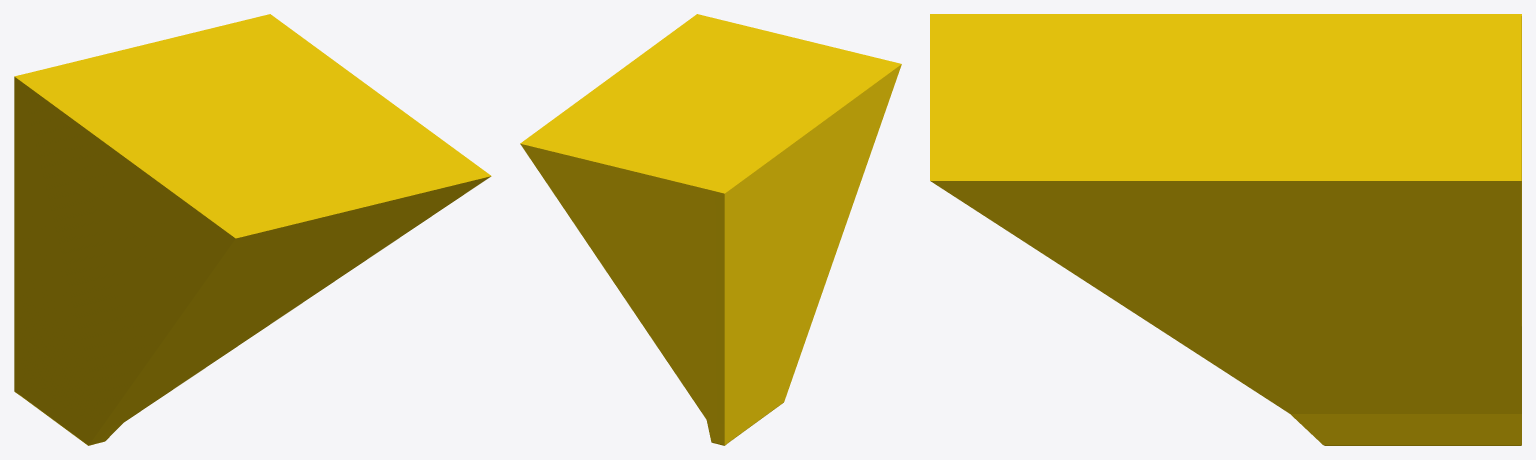
File: corner[top].fbx
3 views of the same model, side by side, from view 1: azimuth 30°, elevation 25°; view 2: azimuth 150°, elevation 25°; view 3: azimuth 270°, elevation 25° (orthographic). The views are drawn at different scales.
Visible parts, largest first — view 1: WALL-CORNER 2(bottom).001; view 2: WALL-CORNER 2(bottom).001; view 3: WALL-CORNER 2(bottom).001.
Boxes of the visible parts, left/top/right/bottom form: WALL-CORNER 2(bottom).001: left=14, top=14, right=491, bottom=445; WALL-CORNER 2(bottom).001: left=520, top=14, right=901, bottom=445; WALL-CORNER 2(bottom).001: left=930, top=14, right=1521, bottom=445.
Bounding box in the file's own units: 100 × 118 × 150.
